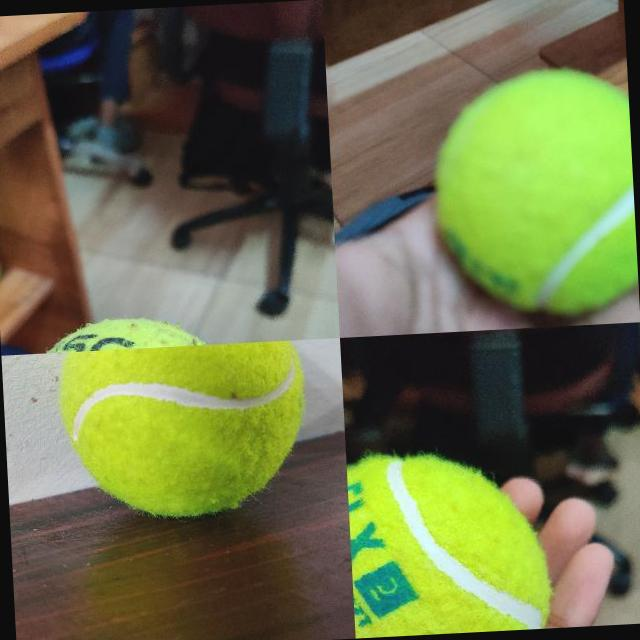tennis-ball: (428, 64, 639, 320), (55, 340, 313, 525), (346, 450, 552, 638)
